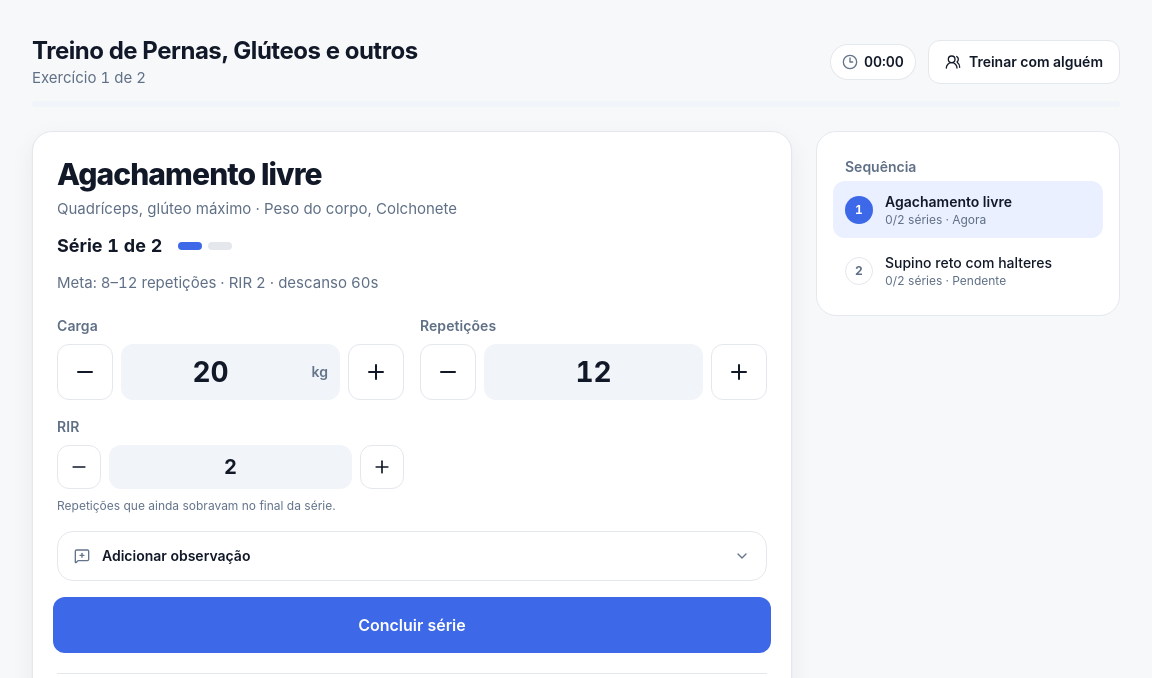
Test: WorkoutPageClient › loads onboarding, starts a workout and autosaves set progress
expect the button "Concluir série" is shown: met, box [53,596,771,652]
Replace the text in the number field labelled "Carga" with "40" at (230, 372), box [121,344,340,400]
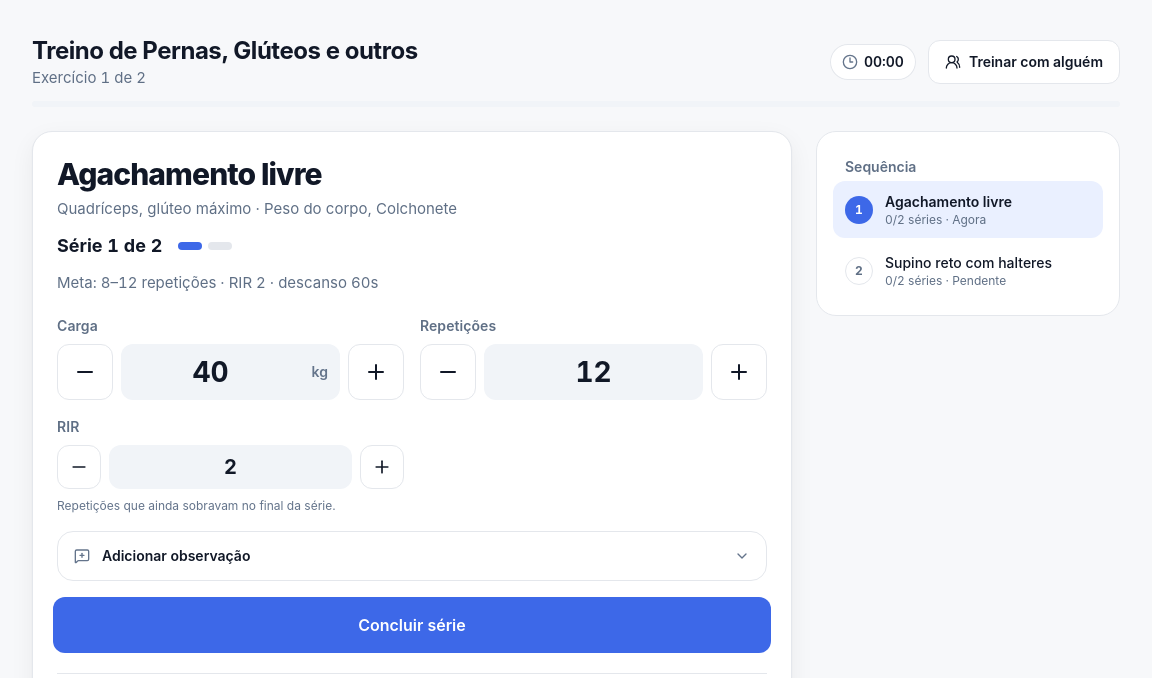
Click the button "Concluir série" at (412, 624), box [53,596,771,652]
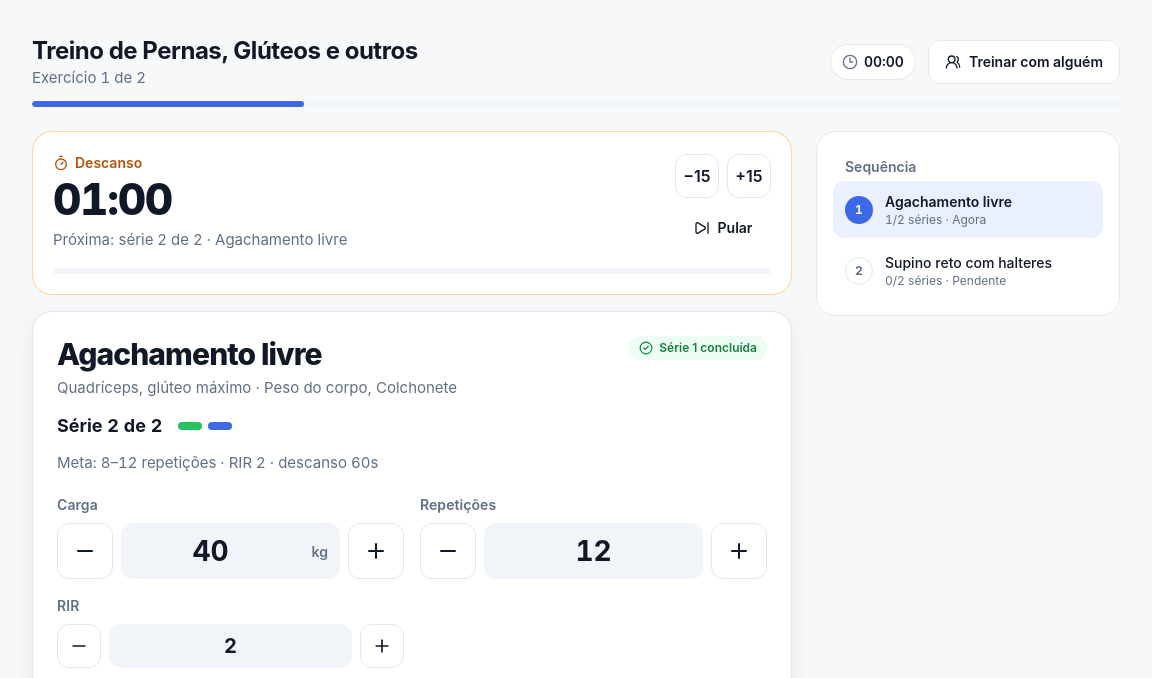
expect the text "Série 1 concluída" is shown: met, box [629,336,767,360]
